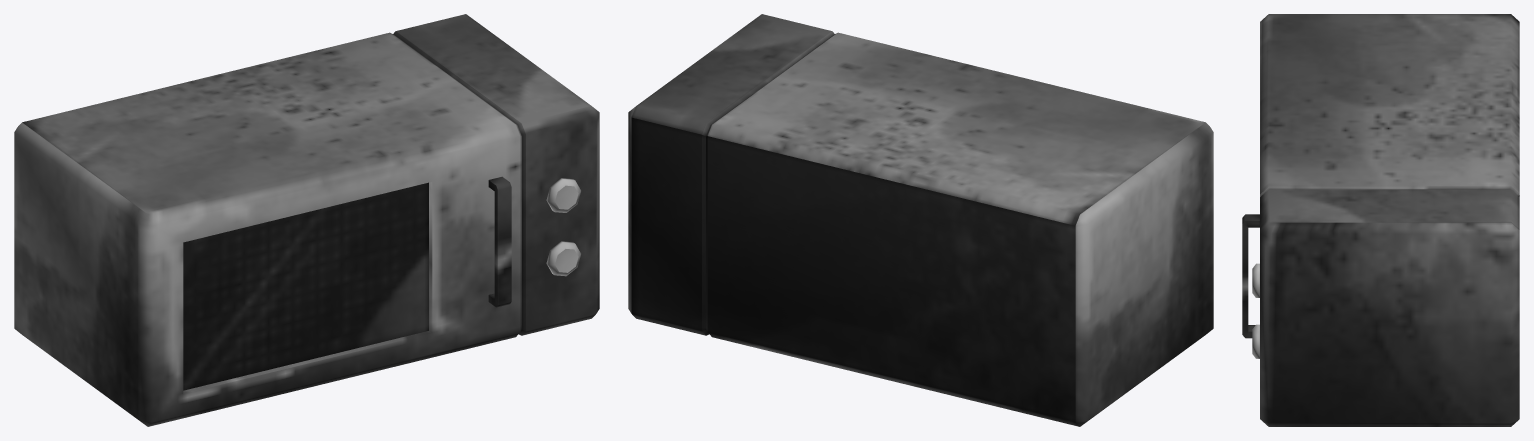
File: Microwave_Asset.fbx
3 views of the same model, side by side, from view 1: azimuth 30°, elevation 25°; view 2: azimuth 150°, elevation 25°; view 3: azimuth 270°, elevation 25° (orthographic). The views are drawn at different scales.
Visible parts, largest first — view 1: Microvawe; view 2: Microvawe; view 3: Microvawe.
Boxes of the visible parts, x1,y1,x2,y2 form: Microvawe: (14,14,599,426); Microvawe: (628,14,1213,426); Microvawe: (1242,14,1519,426).
Bounding box in the file's own units: 37.75 × 20.51 × 16.68.
1 material, 1 textured.
